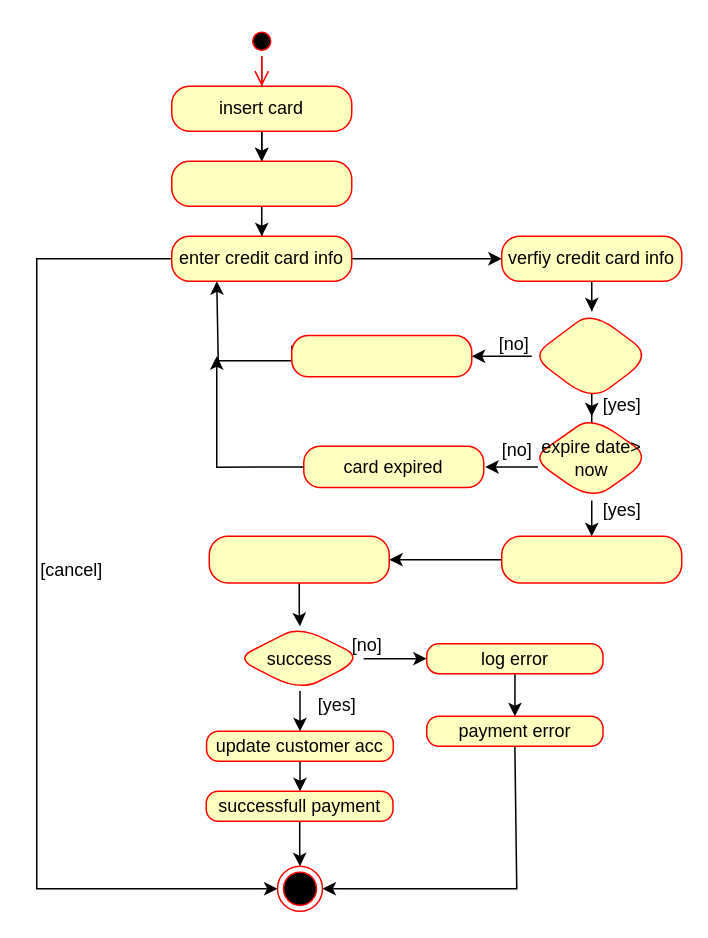
The diagram is 708 pixels wide and 938 high, and some of its shapes have lost their labels. Each missing label, with the centre of its shape:
"accept payment" goes at (x=298, y=559).
"invalid number" goes at (x=381, y=355).
"is num 12 digit" goes at (x=591, y=355).
"select credit card payment" goes at (x=261, y=183).
"submit payment" goes at (x=591, y=559).
